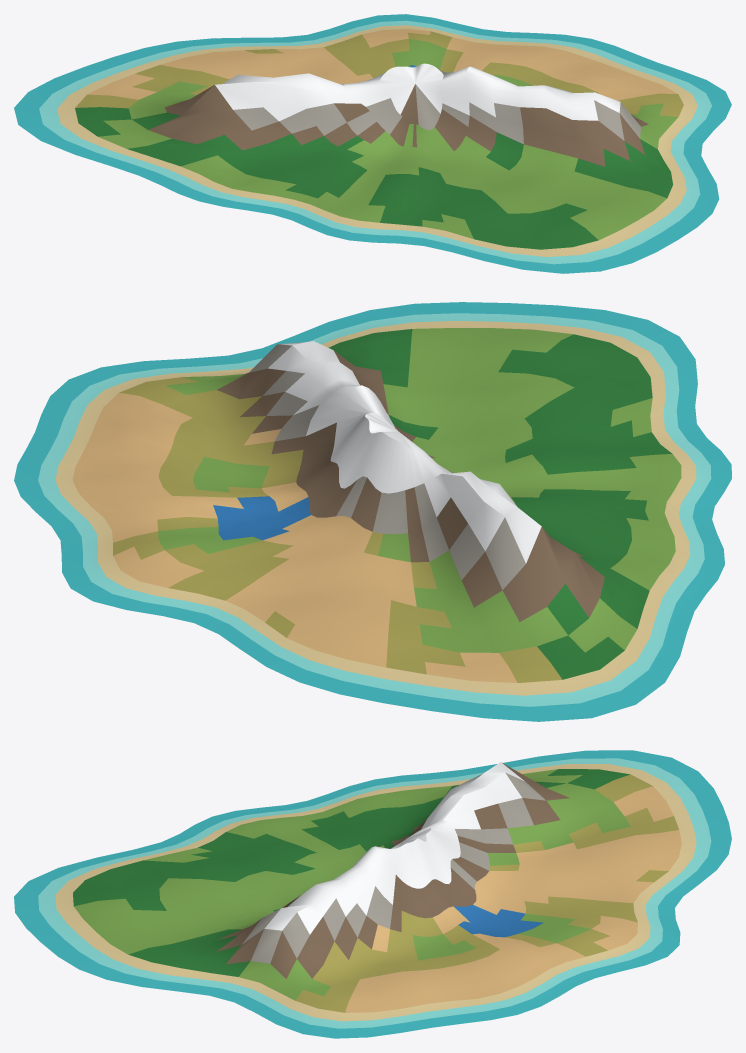
The model's file is landmass.glb.
3 views of the same model, one above another, from view 1: azimuth 30°, elevation 25°; view 2: azimuth 150°, elevation 25°; view 3: azimuth 270°, elevation 25° (orthographic). The views are drawn at different scales.
Parts seen in each view (by area): view 1: body; view 2: body; view 3: body.
Part boxes in pixels (x1=…): body: x1=14, y1=14, x2=731, y2=273; body: x1=14, y1=302, x2=731, y2=721; body: x1=14, y1=750, x2=731, y2=1038.
Bounding box in the file's own units: 359 × 41.22 × 378.
